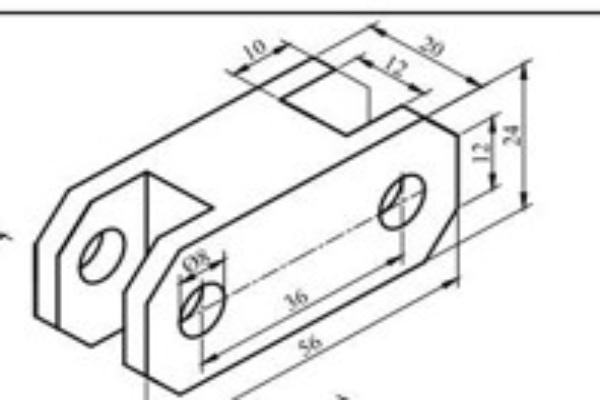dimensions: (373, 50, 416, 83), (295, 328, 332, 364), (176, 246, 218, 277), (278, 283, 316, 313), (418, 29, 452, 62), (238, 35, 274, 65), (500, 118, 530, 152), (469, 133, 492, 166)
